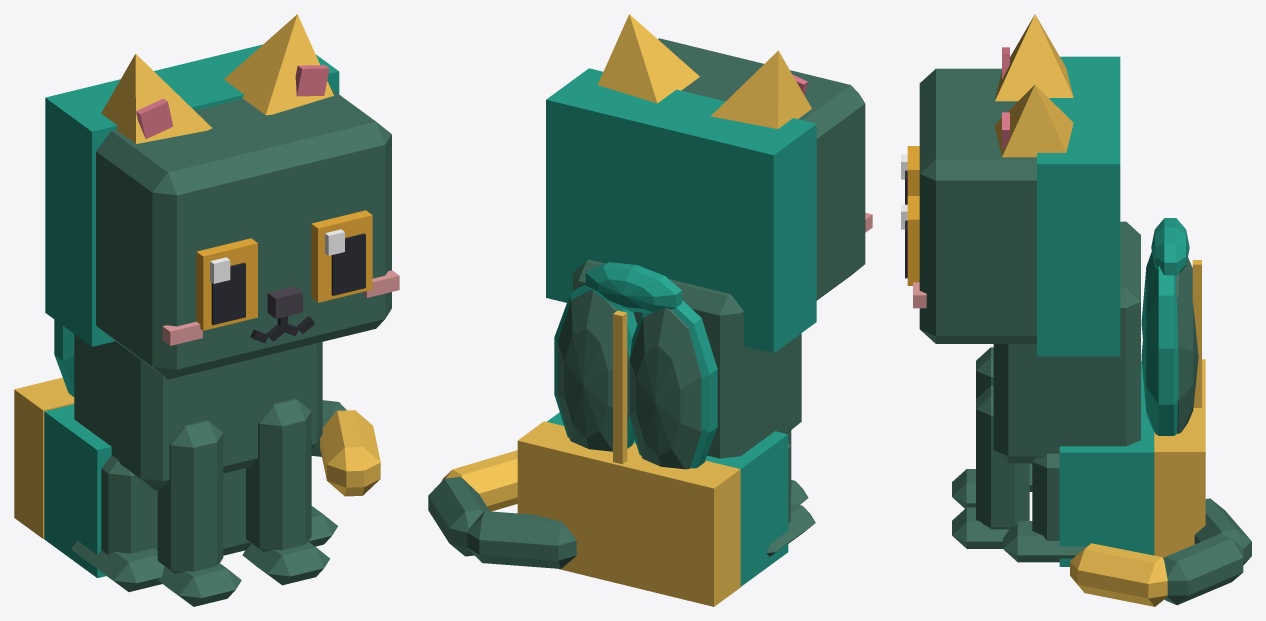
Rendered from CatCafe_Cat_Scarab_Sit.glb.
3 renders of one model, left to right at view 1: azimuth 30°, elevation 25°; view 2: azimuth 150°, elevation 25°; view 3: azimuth 270°, elevation 25°, orthographic. The views are drawn at different scales.
Parts seen in each view (by area): view 1: CatCafe_Cat_Scarab_Sit_Head, CatCafe_Cat_Scarab_Sit_Body, CatCafe_Cat_Scarab_Sit_LegF2, CatCafe_Cat_Scarab_Sit_LegF1, CatCafe_Cat_Scarab_Sit_EarL, CatCafe_Cat_Scarab_Sit_EarR, CatCafe_Cat_Scarab_Sit_Eye1, CatCafe_Cat_Scarab_Sit_Eye2, CatCafe_Cat_Scarab_Sit_Tail, CatCafe_Cat_Scarab_Sit_Prop; view 2: CatCafe_Cat_Scarab_Sit_Head, CatCafe_Cat_Scarab_Sit_Body, CatCafe_Cat_Scarab_Sit_Prop, CatCafe_Cat_Scarab_Sit_Tail, CatCafe_Cat_Scarab_Sit_EarL, CatCafe_Cat_Scarab_Sit_EarR, CatCafe_Cat_Scarab_Sit_Glow; view 3: CatCafe_Cat_Scarab_Sit_Head, CatCafe_Cat_Scarab_Sit_Body, CatCafe_Cat_Scarab_Sit_Prop, CatCafe_Cat_Scarab_Sit_Tail, CatCafe_Cat_Scarab_Sit_LegF1, CatCafe_Cat_Scarab_Sit_EarR, CatCafe_Cat_Scarab_Sit_EarL, CatCafe_Cat_Scarab_Sit_LegF2, CatCafe_Cat_Scarab_Sit_Eye1, CatCafe_Cat_Scarab_Sit_Glow, CatCafe_Cat_Scarab_Sit_Eye2.
Boxes of the visible parts, x1,y1,x2,y2 form: CatCafe_Cat_Scarab_Sit_Head: [45, 44, 399, 379]; CatCafe_Cat_Scarab_Sit_Body: [14, 334, 337, 591]; CatCafe_Cat_Scarab_Sit_LegF2: [157, 420, 241, 606]; CatCafe_Cat_Scarab_Sit_LegF1: [242, 398, 330, 585]; CatCafe_Cat_Scarab_Sit_EarL: [224, 14, 333, 115]; CatCafe_Cat_Scarab_Sit_EarR: [101, 53, 212, 143]; CatCafe_Cat_Scarab_Sit_Eye1: [311, 210, 372, 302]; CatCafe_Cat_Scarab_Sit_Eye2: [196, 238, 257, 330]; CatCafe_Cat_Scarab_Sit_Tail: [311, 400, 380, 496]; CatCafe_Cat_Scarab_Sit_Prop: [54, 319, 74, 396]; CatCafe_Cat_Scarab_Sit_Head: [546, 38, 872, 353]; CatCafe_Cat_Scarab_Sit_Body: [517, 259, 815, 606]; CatCafe_Cat_Scarab_Sit_Prop: [554, 262, 717, 469]; CatCafe_Cat_Scarab_Sit_Tail: [428, 450, 576, 568]; CatCafe_Cat_Scarab_Sit_EarL: [597, 14, 699, 103]; CatCafe_Cat_Scarab_Sit_EarR: [711, 50, 811, 128]; CatCafe_Cat_Scarab_Sit_Glow: [613, 310, 627, 464]; CatCafe_Cat_Scarab_Sit_Head: [913, 56, 1120, 356]; CatCafe_Cat_Scarab_Sit_Body: [993, 221, 1205, 566]; CatCafe_Cat_Scarab_Sit_Prop: [1141, 218, 1198, 435]; CatCafe_Cat_Scarab_Sit_Tail: [1070, 498, 1251, 606]; CatCafe_Cat_Scarab_Sit_LegF1: [952, 385, 1029, 548]; CatCafe_Cat_Scarab_Sit_EarR: [995, 14, 1073, 101]; CatCafe_Cat_Scarab_Sit_EarL: [995, 85, 1073, 157]; CatCafe_Cat_Scarab_Sit_LegF2: [952, 347, 993, 508]; CatCafe_Cat_Scarab_Sit_Eye1: [901, 196, 919, 285]; CatCafe_Cat_Scarab_Sit_Glow: [1192, 260, 1201, 407]; CatCafe_Cat_Scarab_Sit_Eye2: [901, 146, 919, 204].
Bounding box in the file's own units: 1.25 × 1.85 × 1.24.
Materials: 1 (1 with a texture image).
